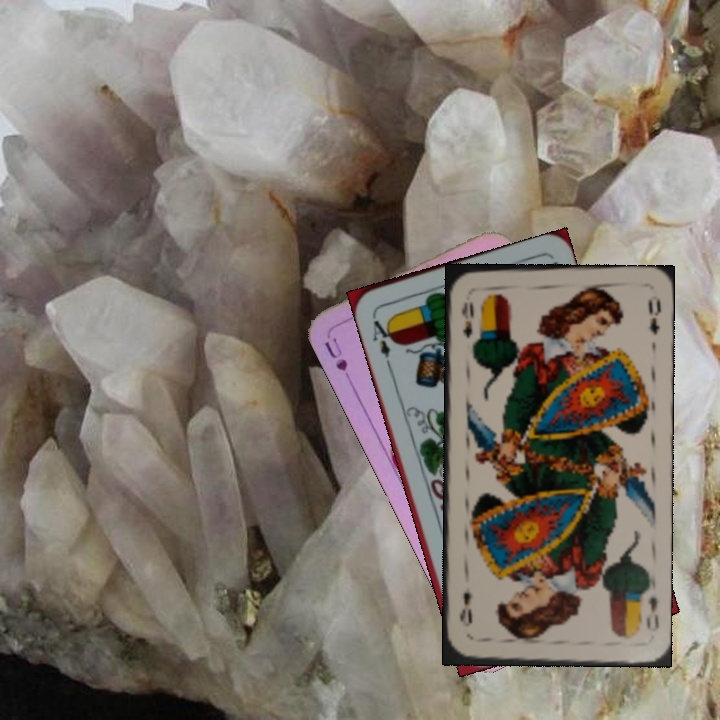EA: (368, 310, 398, 368)
EO: (642, 593, 662, 634), (457, 297, 476, 340)
SU: (320, 333, 356, 389)
